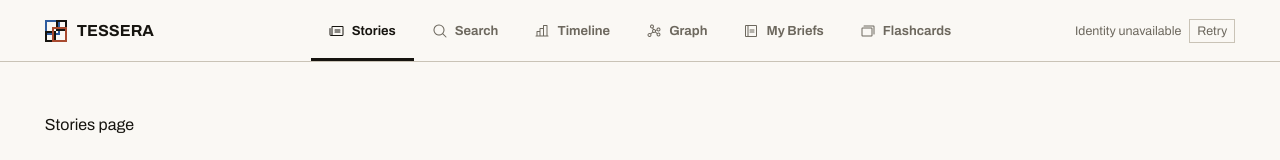
Test: AppShell › shows a retry when /auth/me fails
Expected: the message shows "Identity unavailable", [1075,24,1181,38]
Click the button "Retry": (1212, 30) [1189,18,1235,42]
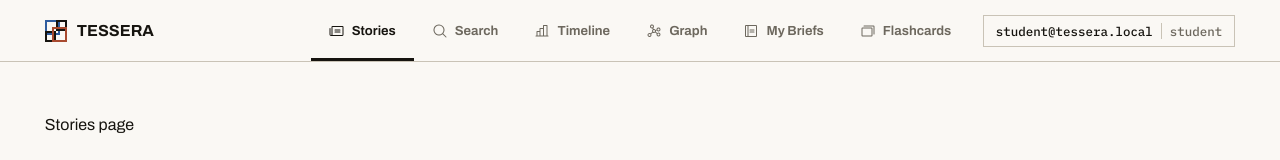
Expected: the text "student@tessera.local" is shown, [996,22,1153,38]
